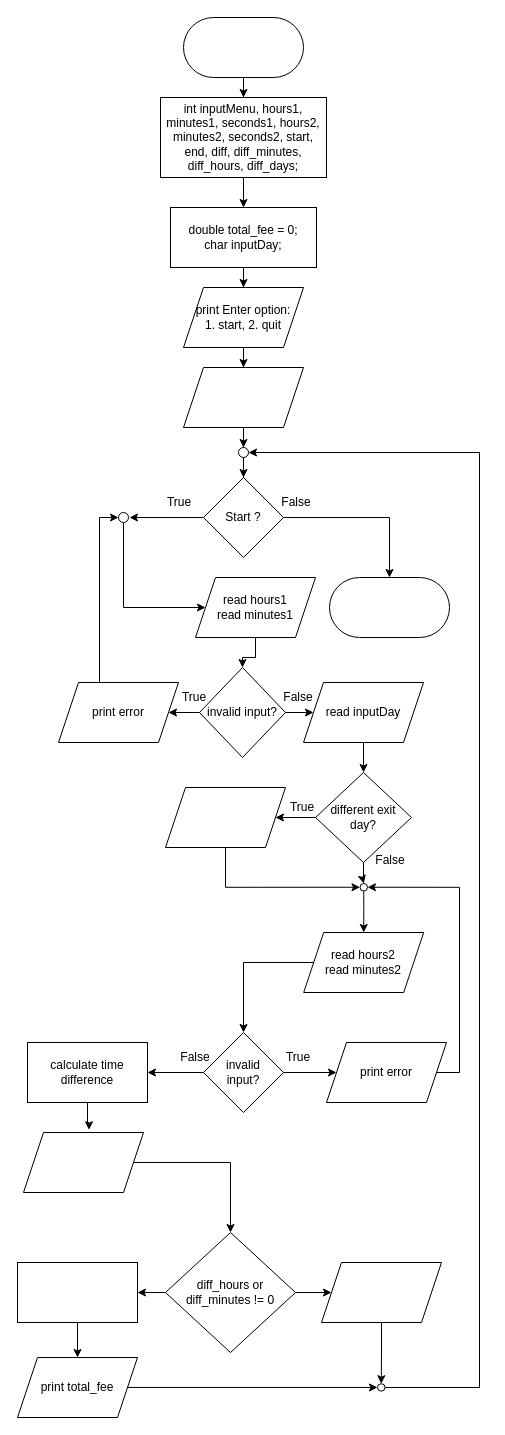
The diagram is 505 pixels wide and 1435 high, and some of its shapes have lost their labels. The shapes that lost their labels are listed below. From the top down, each one's centre as x and y in pixels, then its label:
At pixel 243 47: "Start".
At pixel 243 397: "read inputMenu".
At pixel 389 607: "End".
At pixel 225 817: "read days".
At pixel 83 1162: "print parking duration".
At pixel 77 1292: "calculate parking fee".
At pixel 381 1292: "print your parking is still free".
